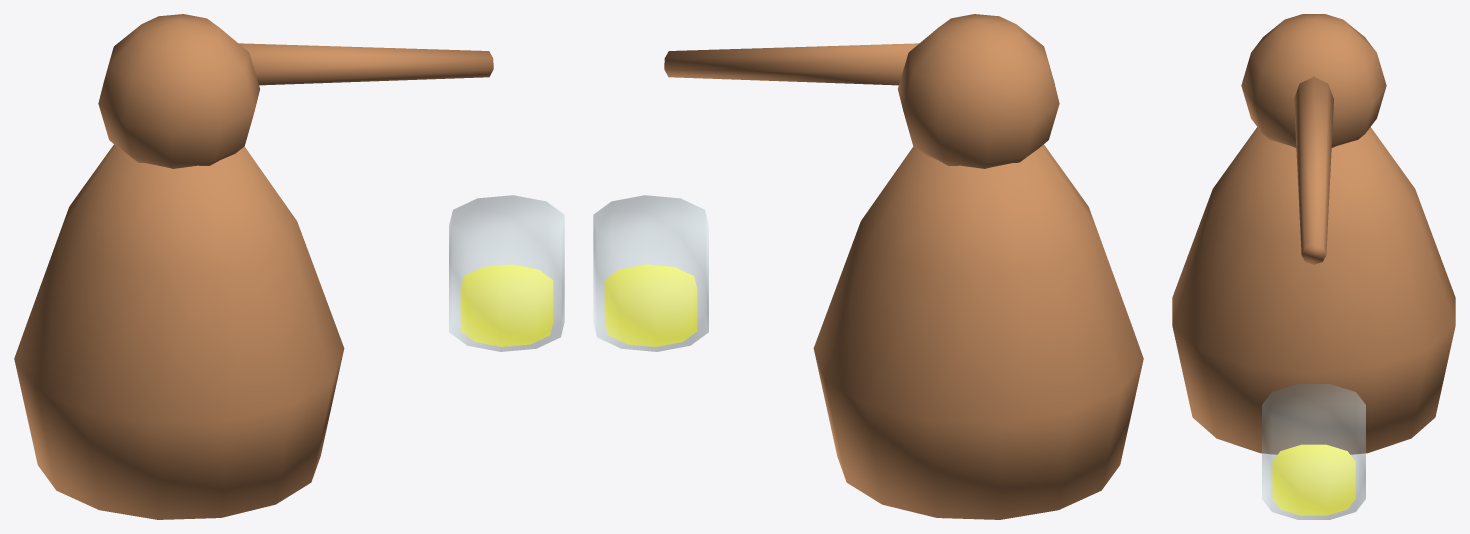
The model's file is apparatus_alembic.glb.
3 renders of one model, left to right at view 1: azimuth 30°, elevation 25°; view 2: azimuth 150°, elevation 25°; view 3: azimuth 270°, elevation 25°, orthographic. The views are drawn at different scales.
Parts seen in each view (by area): view 1: GD_apparatus_alembic__m0, GD_apparatus_alembic__m1, GD_apparatus_alembic__m2; view 2: GD_apparatus_alembic__m0, GD_apparatus_alembic__m1, GD_apparatus_alembic__m2; view 3: GD_apparatus_alembic__m0, GD_apparatus_alembic__m1, GD_apparatus_alembic__m2.
Part boxes in pixels (x1,y1,x2,y2): GD_apparatus_alembic__m0: [14, 14, 493, 519]; GD_apparatus_alembic__m1: [449, 195, 564, 351]; GD_apparatus_alembic__m2: [460, 264, 553, 346]; GD_apparatus_alembic__m0: [664, 14, 1143, 519]; GD_apparatus_alembic__m1: [593, 195, 708, 351]; GD_apparatus_alembic__m2: [604, 264, 697, 346]; GD_apparatus_alembic__m0: [1172, 14, 1455, 454]; GD_apparatus_alembic__m1: [1262, 384, 1365, 519]; GD_apparatus_alembic__m2: [1272, 444, 1355, 515].
Size of the model in its own units: 0.5076 by 0.41 by 0.273.
